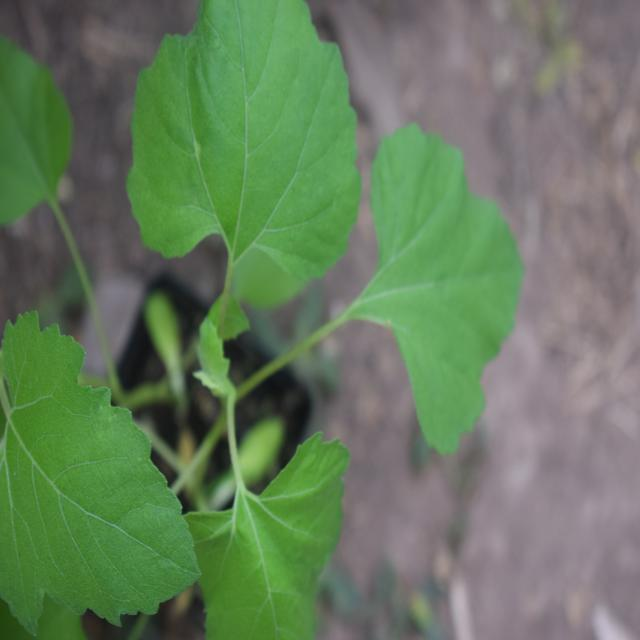cocklebur: (4, 29, 532, 616)
